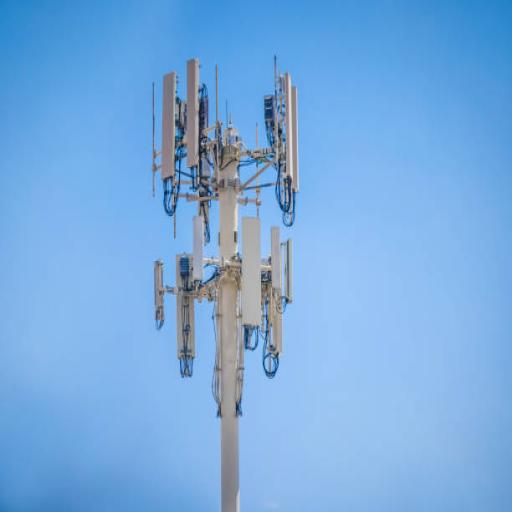monopole_tower: (148, 47, 300, 512)
